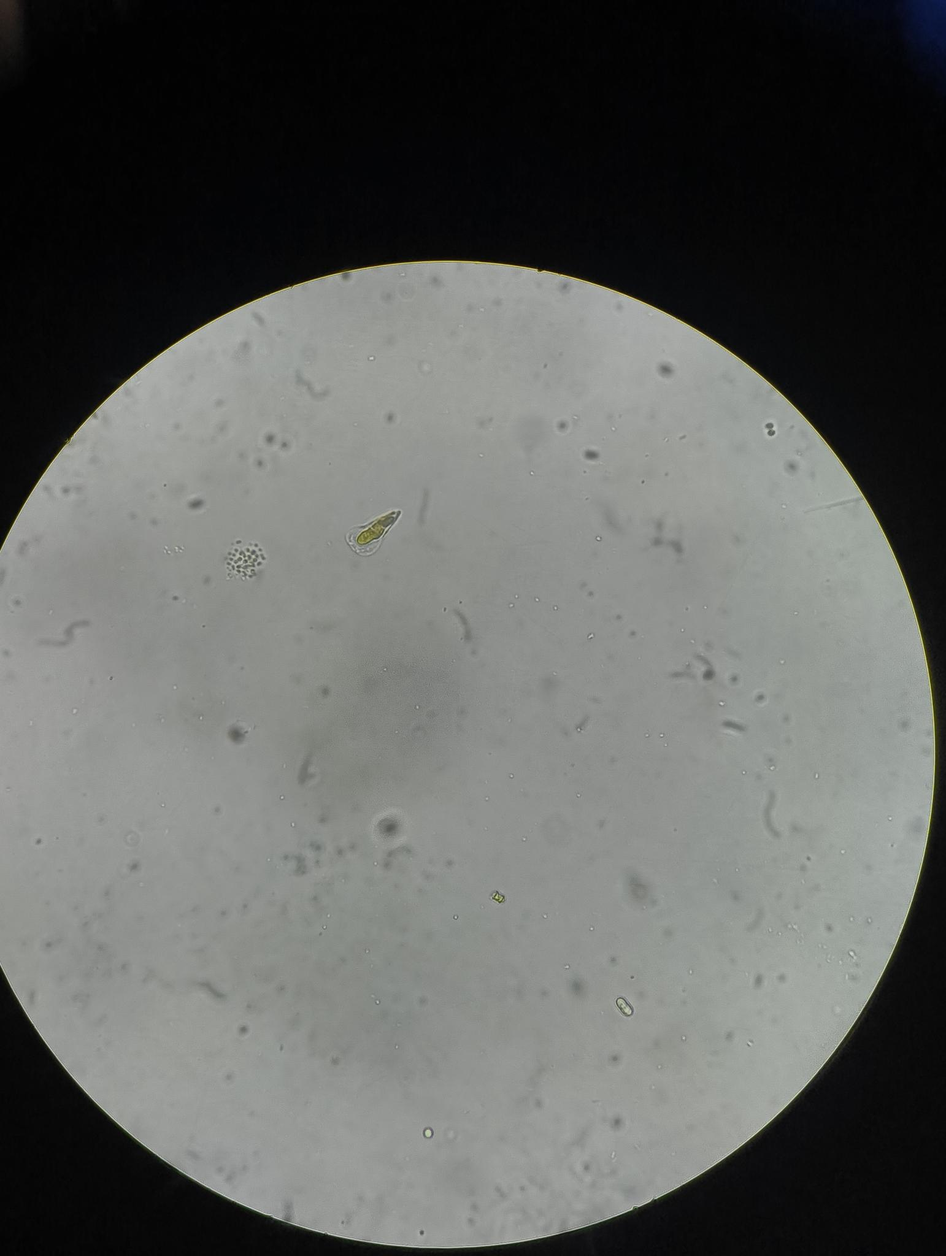Euglena: (330, 500, 413, 564)
